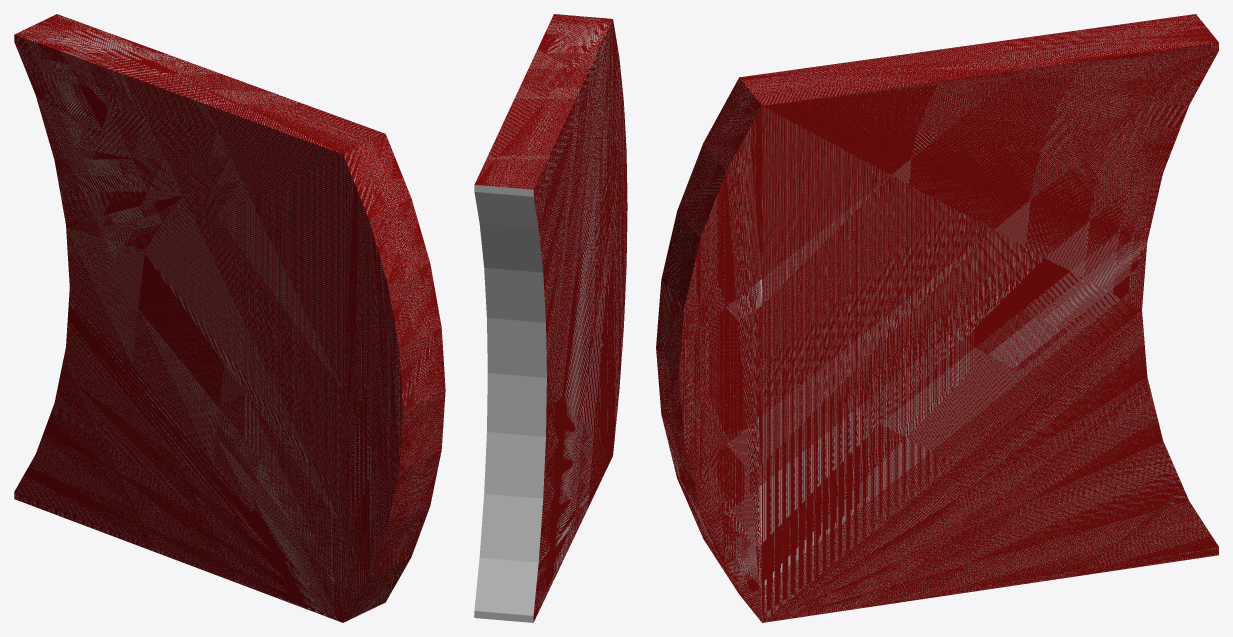
The model's file is original-3.obj.
3 views of the same model, side by side, from view 1: azimuth 30°, elevation 25°; view 2: azimuth 150°, elevation 25°; view 3: azimuth 270°, elevation 25° (orthographic). The views are drawn at different scales.
Visible parts, largest first — view 1: Group1/mesh2/mesh2-geometry#mesh2-geometry; view 2: Group1/mesh2/mesh2-geometry#mesh2-geometry; view 3: Group1/mesh2/mesh2-geometry#mesh2-geometry.
Boxes of the visible parts, bbox=[...] form: Group1/mesh2/mesh2-geometry#mesh2-geometry: bbox=[14, 14, 445, 622]; Group1/mesh2/mesh2-geometry#mesh2-geometry: bbox=[474, 14, 627, 622]; Group1/mesh2/mesh2-geometry#mesh2-geometry: bbox=[656, 14, 1218, 622].
Size of the model in its own units: 0.0147 by 0.0334 by 0.0329.
